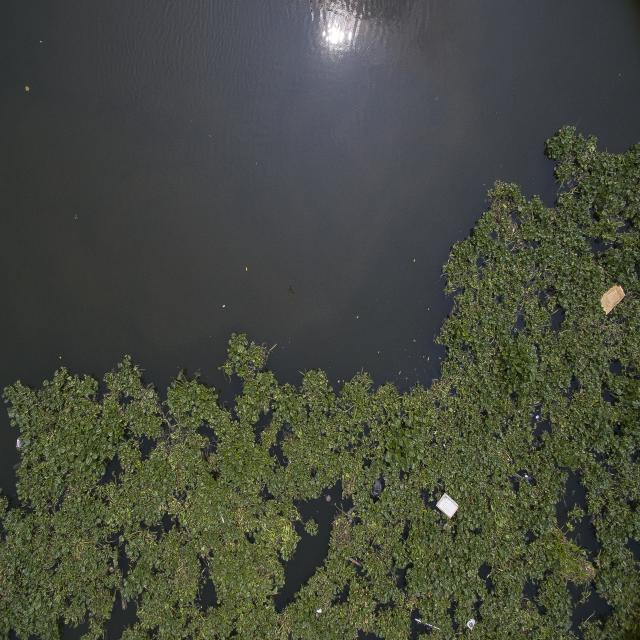plastic: (591, 273, 627, 320), (433, 486, 463, 530), (410, 610, 445, 636), (461, 612, 484, 640), (11, 434, 30, 456), (313, 601, 326, 621)
